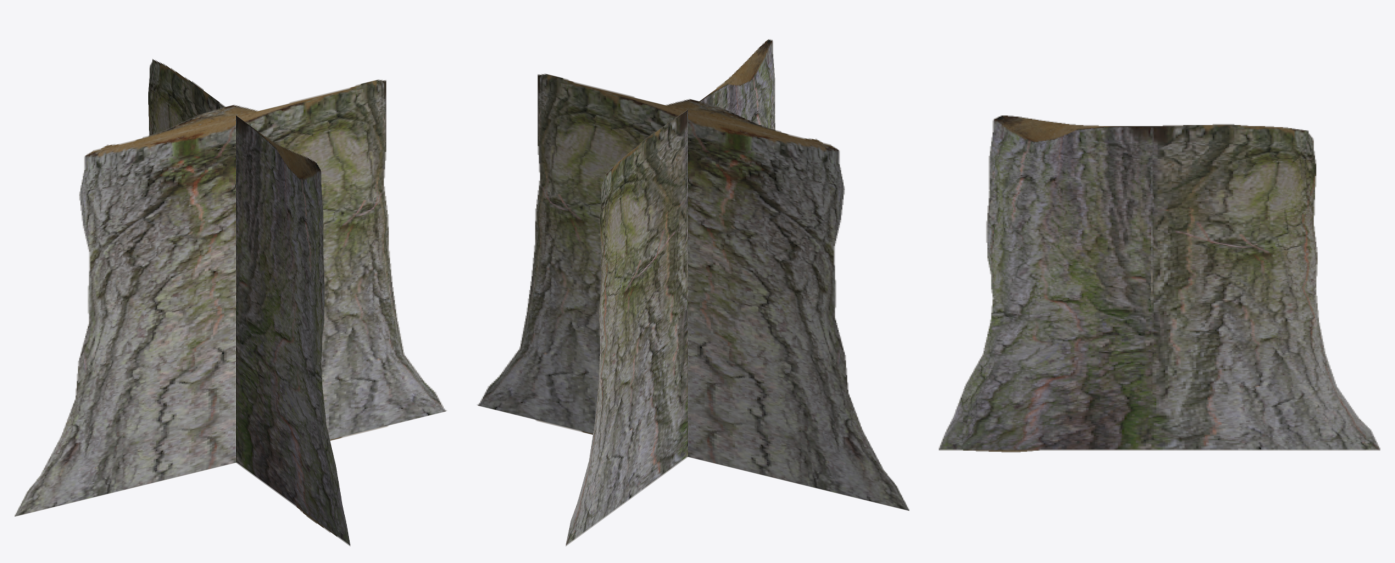
File: Stump.glb
3 views of the same model, side by side, from view 1: azimuth 30°, elevation 25°; view 2: azimuth 150°, elevation 25°; view 3: azimuth 270°, elevation 25° (orthographic). The views are drawn at different scales.
Parts seen in each view (by area): view 1: mesh__mat_billboard_1; view 2: mesh__mat_billboard_1; view 3: mesh__mat_billboard_1.
Boxes of the visible parts, bbox=[...] form: mesh__mat_billboard_1: bbox=[14, 59, 446, 545]; mesh__mat_billboard_1: bbox=[477, 39, 909, 545]; mesh__mat_billboard_1: bbox=[938, 115, 1380, 452].
Size of the model in its own units: 0.7534 by 0.601 by 0.7143.
Materials: 1 (1 with a texture image).
